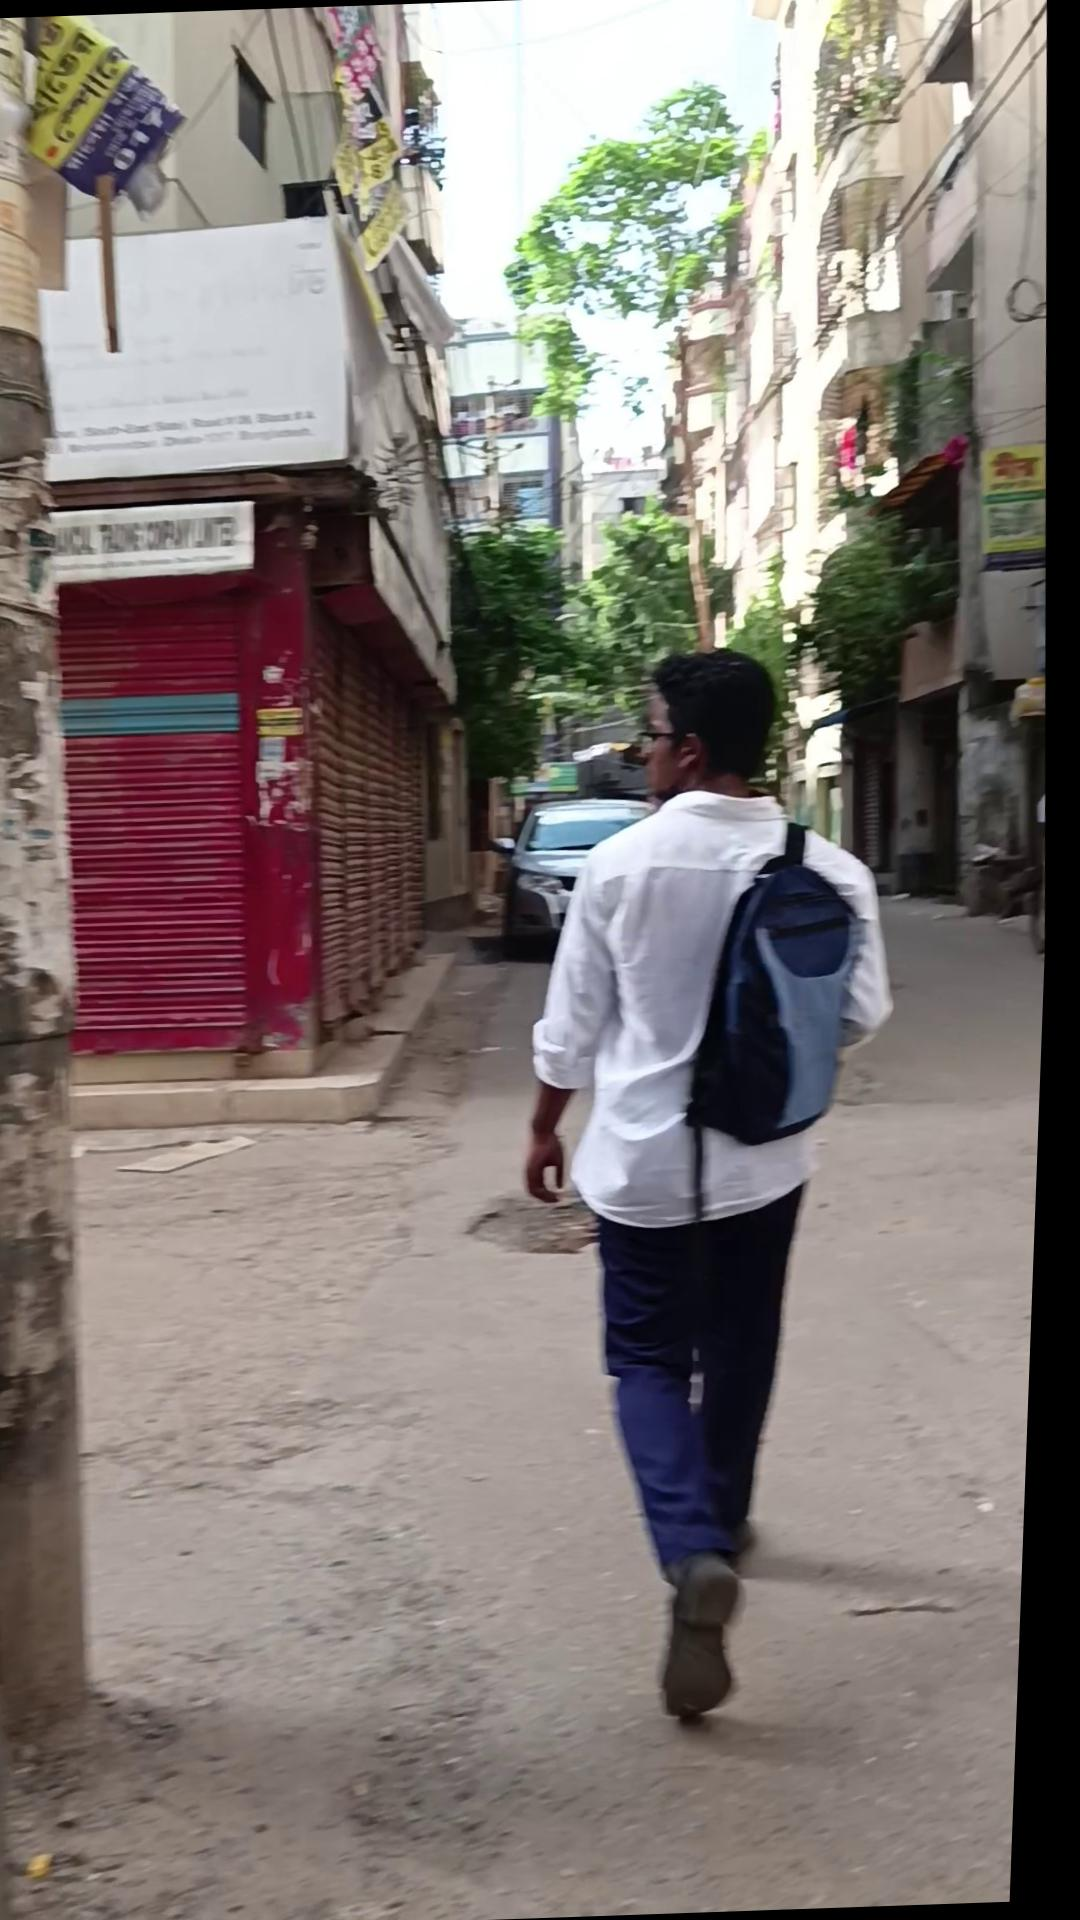Car: (493, 794, 670, 960)
Crosswalk: (70, 948, 471, 1134), (74, 1069, 393, 1131)
Muddy road: (497, 640, 936, 1726)
Obstacle: (0, 21, 156, 1755)
Potted-plant: (0, 886, 1054, 1920)
